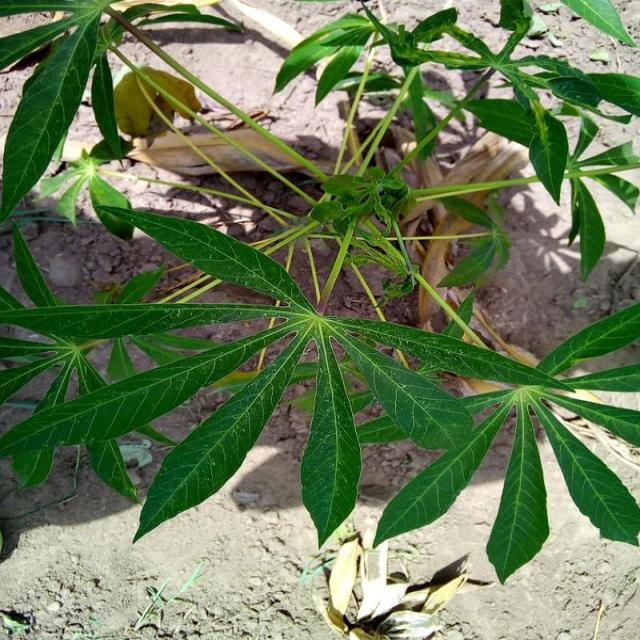cassava leaf: (0, 2, 638, 585), (299, 323, 362, 550), (111, 63, 201, 136)
